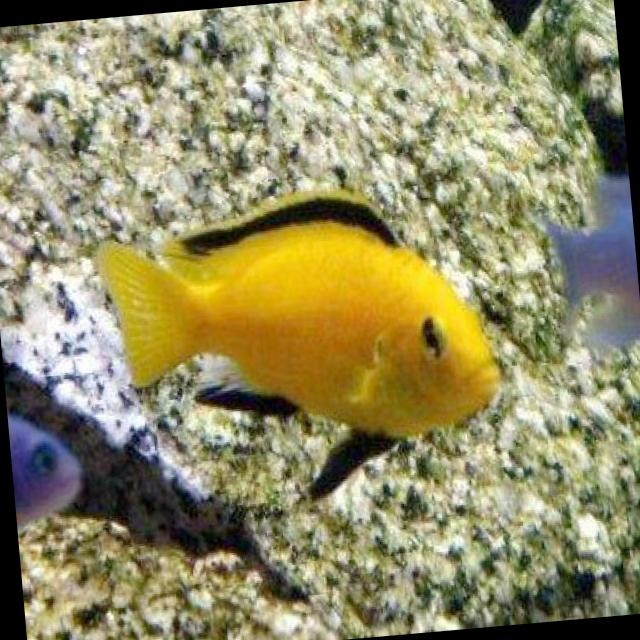YellowCichlid: (88, 163, 522, 518)
